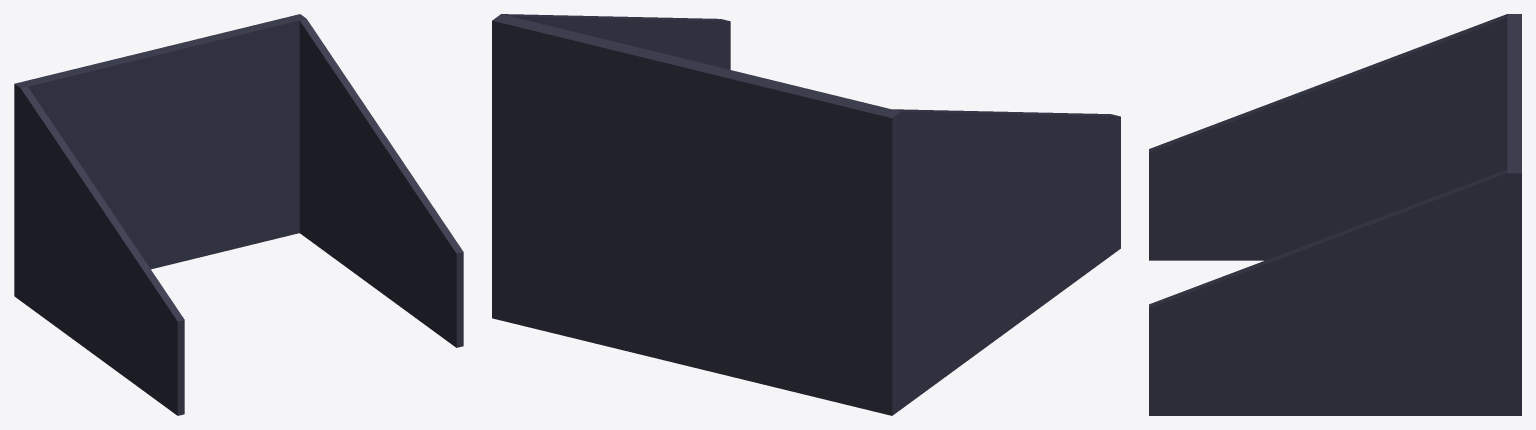
Rendered from Cubiculo.FBX.
The picture shows the model from 3 angles, left to right: view 1: azimuth 30°, elevation 25°; view 2: azimuth 150°, elevation 25°; view 3: azimuth 270°, elevation 25°; orthographic projection. The views are drawn at different scales.
Visible parts, largest first — view 1: Cubiculo; view 2: Cubiculo; view 3: Cubiculo.
Boxes of the visible parts, bbox=[...] form: Cubiculo: bbox=[14, 14, 463, 415]; Cubiculo: bbox=[492, 14, 1120, 415]; Cubiculo: bbox=[1149, 14, 1521, 415].
Size of the model in its own units: 10.22 by 7.27 by 10.12.
